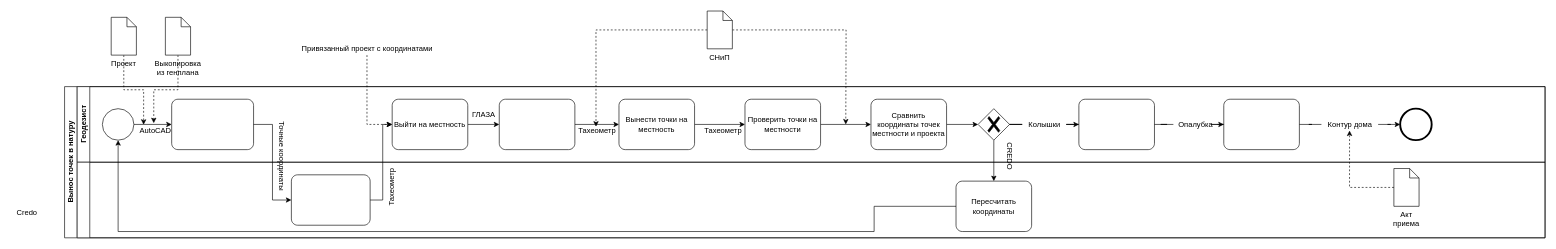
Some shapes in this 1556 by 249 pixel diagram are drawn without their labels. Here are the shapes that lost their labels. From the top down, the box of each, then its label:
(171, 99, 254, 150): Перевести координаты из генплана в проектные координаты
(499, 99, 575, 150): Найти точки на местности
(1078, 99, 1154, 150): Поставить физические отметки на местности
(1223, 99, 1299, 150): Соединить физические отметки
(291, 174, 370, 225): Совместить координаты плана и проекта
(77, 162, 1545, 238): Компухтер
